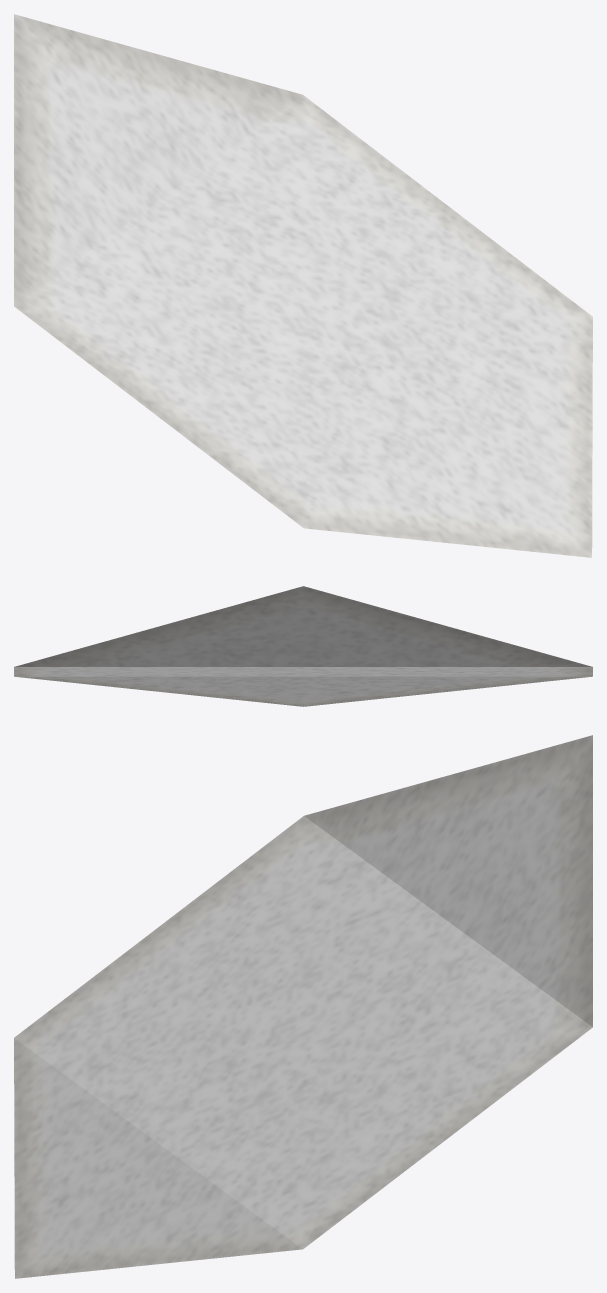
File: HexaTile_PC_Cext.FBX
The picture shows the model from 3 angles, top to bottom: view 1: azimuth 30°, elevation 25°; view 2: azimuth 150°, elevation 25°; view 3: azimuth 270°, elevation 25°; orthographic projection.
Parts seen in each view (by area): view 1: HexaTile_PC_Cext; view 2: HexaTile_PC_Cext; view 3: HexaTile_PC_Cext.
Boxes of the visible parts, bbox=[...] form: HexaTile_PC_Cext: bbox=[14, 14, 592, 557]; HexaTile_PC_Cext: bbox=[14, 586, 592, 706]; HexaTile_PC_Cext: bbox=[14, 735, 592, 1278].
Size of the model in its own units: 1 by 0.6657 by 0.8673.
